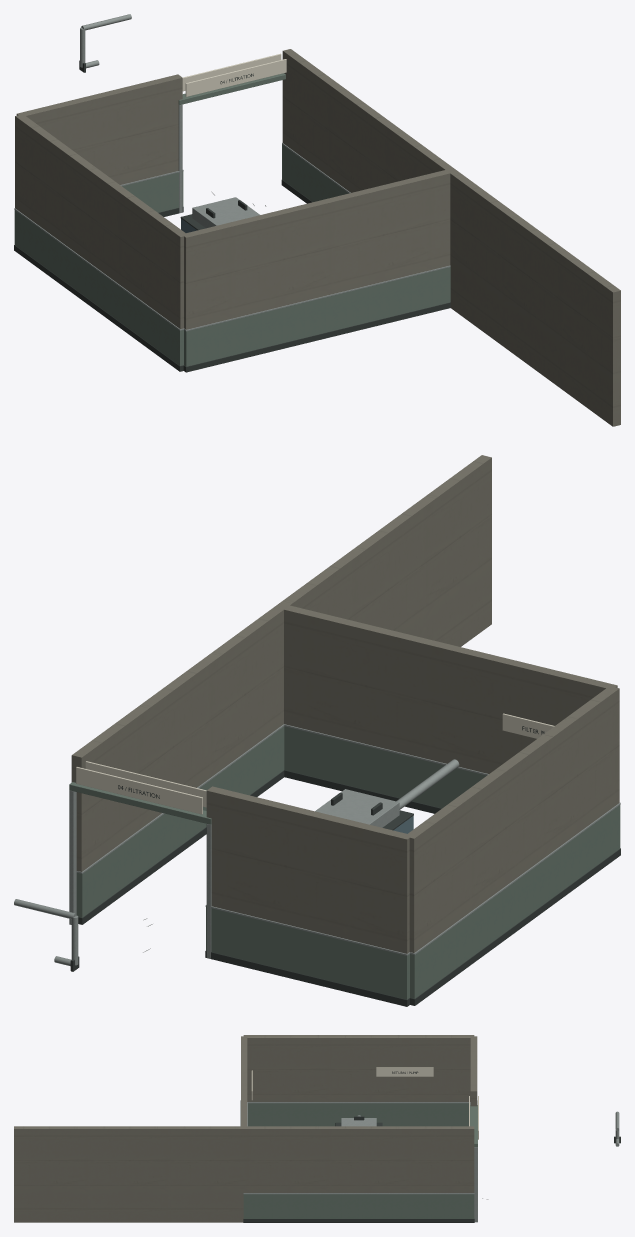
File: power_filtration.glb
3 views of the same model, one above another, from view 1: azimuth 30°, elevation 25°; view 2: azimuth 150°, elevation 25°; view 3: azimuth 270°, elevation 25° (orthographic). The views are drawn at different scales.
Visible parts, largest first — view 1: power_filtration / power_plaster, power_filtration / power_sage_enamel, power_filtration / power_galvanized, power_filtration / power_blackened_steel, power_filtration / power_instrument_ivory; view 2: power_filtration / power_plaster, power_filtration / power_sage_enamel, power_filtration / power_galvanized, power_filtration / power_blackened_steel, power_filtration / power_instrument_ivory; view 3: power_filtration / power_plaster, power_filtration / power_sage_enamel, power_filtration / power_galvanized, power_filtration / power_blackened_steel, power_filtration / power_instrument_ivory.
Boxes of the visible parts, x1,y1,x2,y2 form: power_filtration / power_plaster: [15, 49, 620, 426]; power_filtration / power_sage_enamel: [14, 73, 450, 366]; power_filtration / power_galvanized: [14, 14, 450, 331]; power_filtration / power_blackened_steel: [14, 60, 450, 372]; power_filtration / power_instrument_ivory: [182, 53, 286, 96]; power_filtration / power_plaster: [71, 455, 619, 953]; power_filtration / power_sage_enamel: [69, 726, 620, 999]; power_filtration / power_galvanized: [14, 724, 620, 966]; power_filtration / power_blackened_steel: [70, 726, 620, 1006]; power_filtration / power_instrument_ivory: [76, 713, 554, 814]; power_filtration / power_plaster: [14, 1035, 477, 1222]; power_filtration / power_sage_enamel: [243, 1103, 477, 1218]; power_filtration / power_galvanized: [240, 1100, 619, 1222]; power_filtration / power_blackened_steel: [243, 1071, 620, 1222]; power_filtration / power_instrument_ivory: [251, 1067, 478, 1139].
Bounding box in the file's own units: 7.77 × 3.61 × 21.13.
7 materials, 4 textured.
